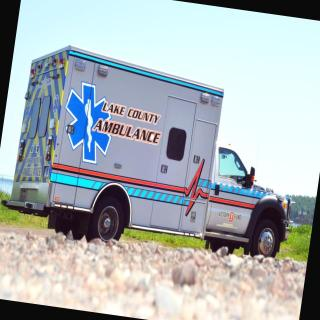Ambulance: (3, 35, 317, 274)
